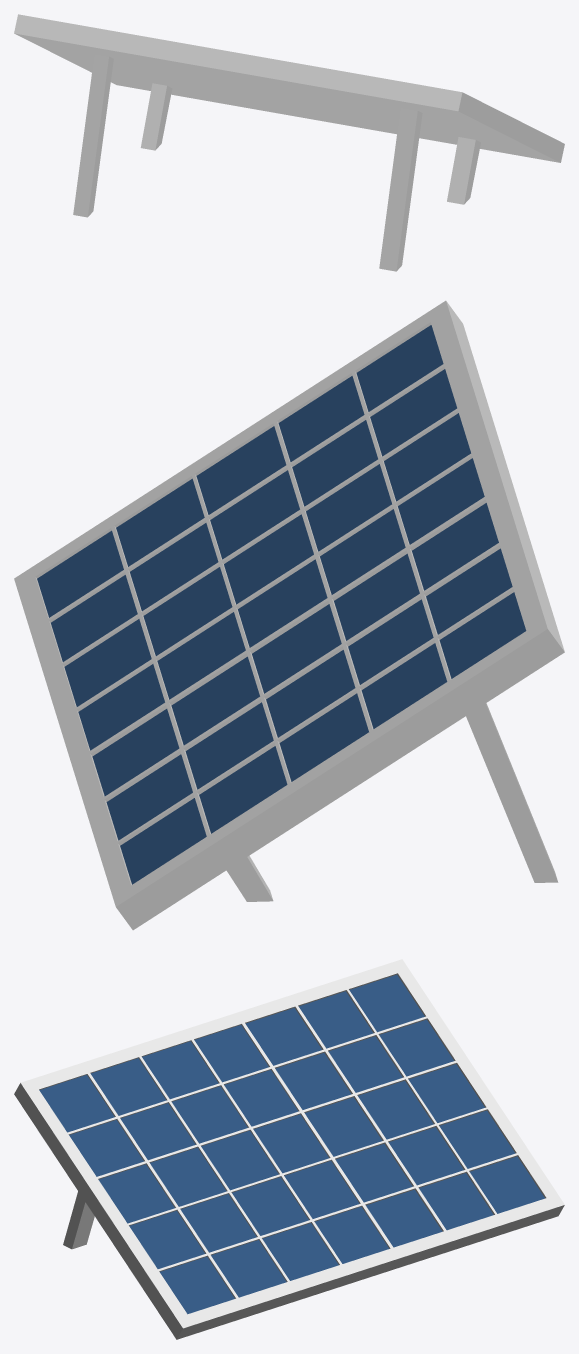
File: Solar Panel.fbx
3 views of the same model, one above another, from view 1: azimuth 30°, elevation 25°; view 2: azimuth 150°, elevation 25°; view 3: azimuth 270°, elevation 25° (orthographic). The views are drawn at different scales.
Parts seen in each view (by area): view 1: Solar Panel; view 2: Solar Panel; view 3: Solar Panel.
Part boxes in pixels (left/top/right/bottom): Solar Panel: left=14, top=14, right=564, bottom=271; Solar Panel: left=14, top=300, right=564, bottom=930; Solar Panel: left=14, top=959, right=564, bottom=1339.
Size of the model in its own units: 482 by 517 by 192.
